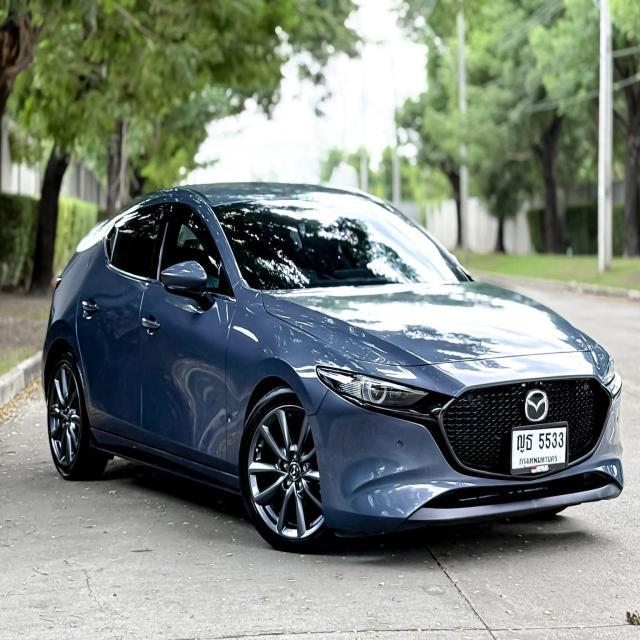Hatchback: (40, 181, 626, 554)
